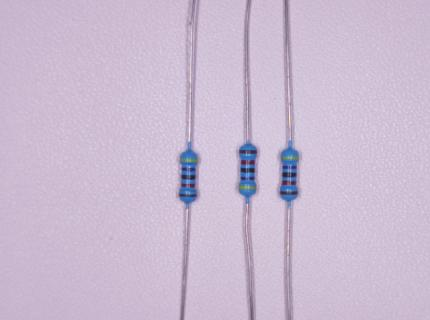Black band: (282, 172, 296, 178), (241, 168, 255, 173), (181, 175, 195, 180)
Brown band: (239, 150, 257, 154), (280, 191, 298, 195), (179, 194, 197, 197)
Red band: (282, 181, 297, 185), (241, 160, 255, 164), (181, 183, 195, 187)
Violet band: (181, 167, 196, 171), (283, 165, 297, 169), (241, 177, 255, 180)
Yellow band: (238, 185, 256, 190), (281, 156, 299, 160), (180, 158, 198, 162)
